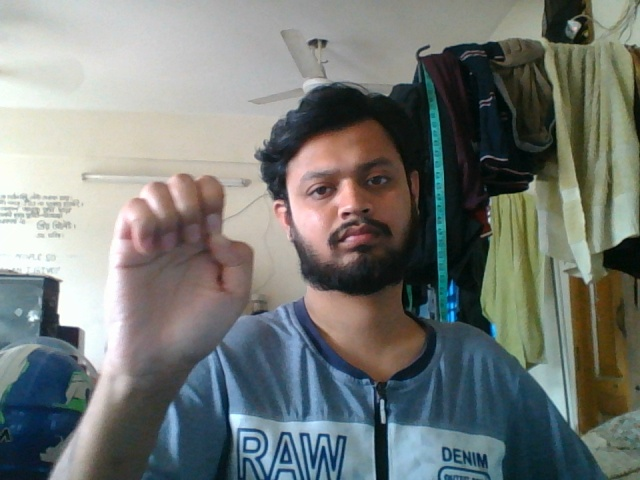sha: (103, 167, 261, 392)
